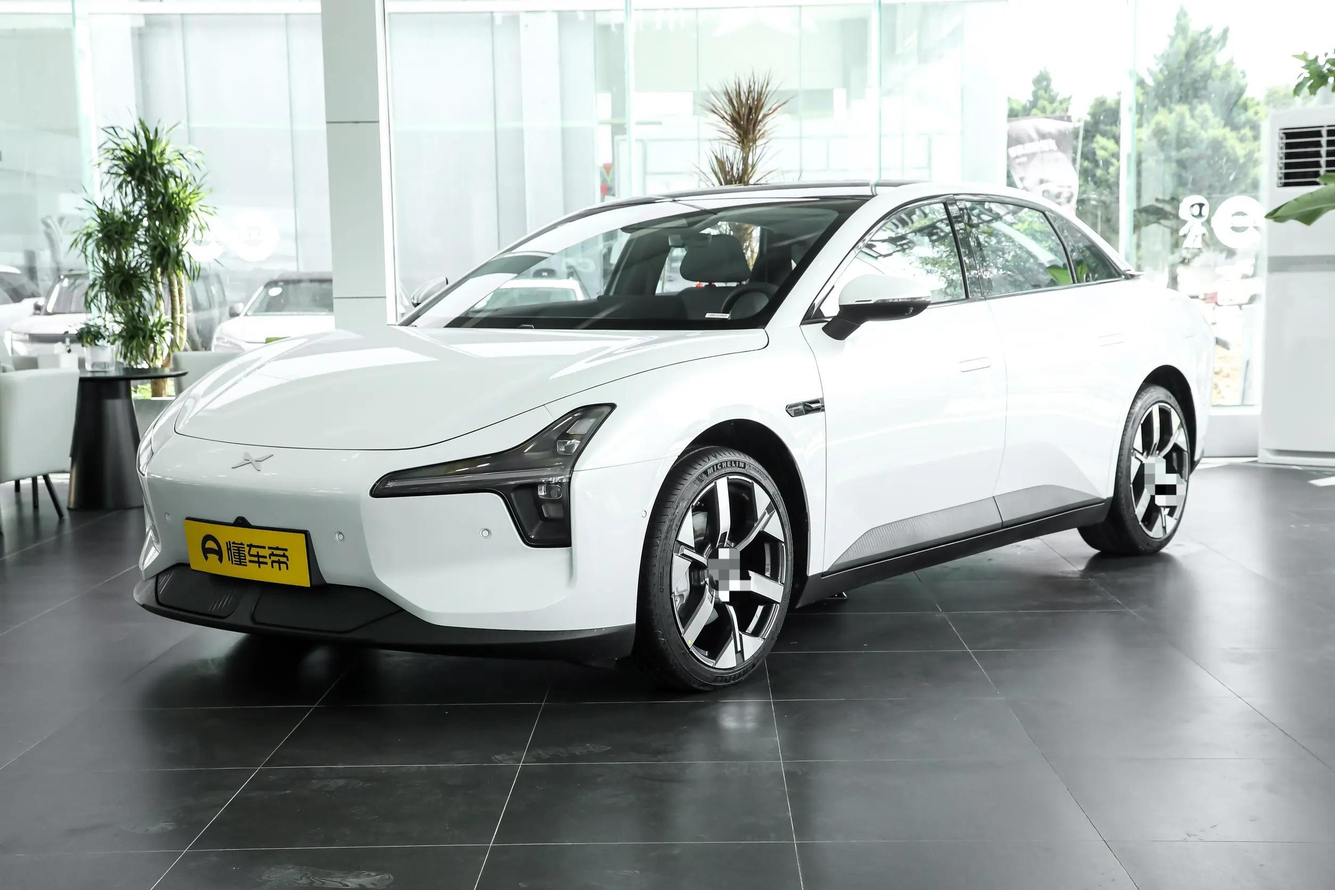XPeng Motors: (232, 451, 273, 471)
